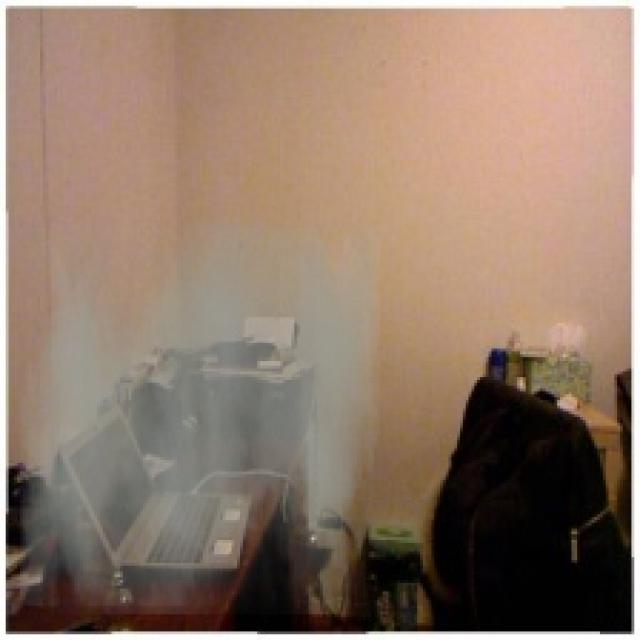smoke: (20, 223, 380, 614)
